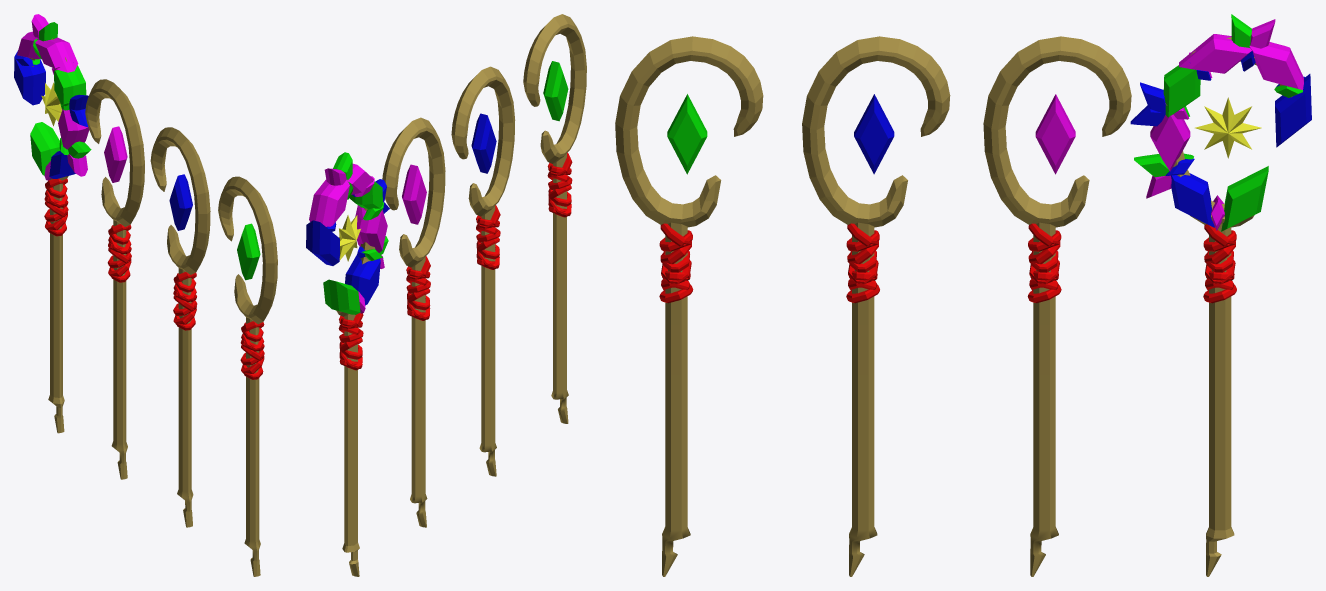
File: Staff.fbx
3 views of the same model, side by side, from view 1: azimuth 30°, elevation 25°; view 2: azimuth 150°, elevation 25°; view 3: azimuth 270°, elevation 25° (orthographic). The views are drawn at different scales.
Visible parts, largest first — view 1: staff4, staff1, staff2, staff3; view 2: staff4, staff2, staff3, staff1; view 3: staff4, staff3, staff1, staff2.
Part boxes in pixels (x1=…): staff4: x1=14, y1=14, x2=91, y2=433; staff1: x1=218, y1=176, x2=277, y2=576; staff2: x1=150, y1=127, x2=210, y2=527; staff3: x1=85, y1=79, x2=144, y2=479; staff4: x1=306, y1=152, x2=389, y2=576; staff2: x1=451, y1=66, x2=515, y2=476; staff3: x1=382, y1=117, x2=445, y2=527; staff1: x1=523, y1=14, x2=586, y2=423; staff4: x1=1130, y1=14, x2=1311, y2=576; staff3: x1=983, y1=36, x2=1131, y2=576; staff1: x1=615, y1=36, x2=763, y2=576; staff2: x1=802, y1=36, x2=950, y2=576.
Bounding box in the file's own units: 0.1225 × 1.96 × 2.22.
